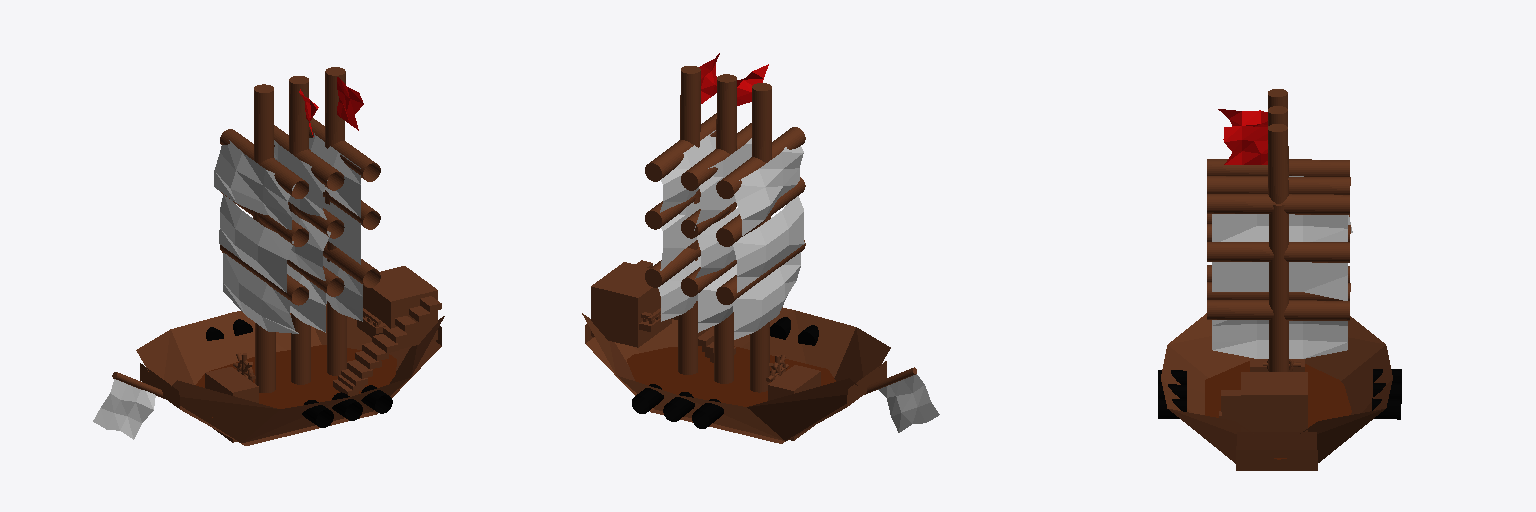
Rendered from ship.obj.
The picture shows the model from 3 angles: view 1: azimuth 30°, elevation 25°; view 2: azimuth 150°, elevation 25°; view 3: azimuth 270°, elevation 25°; orthographic projection.
Parts seen in each view (by area): view 1: Cylinder.001, Plane.002_Plane.003, Plane_Plane.001, Plane.001_Plane.002, Plane.003_Plane.004, Cube_Cube.001; view 2: Cylinder.001, Plane.002_Plane.003, Plane_Plane.001, Plane.001_Plane.002, Plane.003_Plane.004, Cube_Cube.001; view 3: Cylinder.001, Plane_Plane.001, Plane.002_Plane.003, Plane.001_Plane.002.
Part boxes in pixels (x1,y1,x2,y2): Cylinder.001: (206,67,441,427); Plane.002_Plane.003: (214,77,363,333); Plane_Plane.001: (136,304,444,445); Plane.001_Plane.002: (196,345,396,417); Plane.003_Plane.004: (93,379,155,439); Cube_Cube.001: (205,367,258,442); Cylinder.001: (591,66,818,428); Plane.002_Plane.003: (658,53,804,339); Plane_Plane.001: (582,307,890,443); Plane.001_Plane.002: (627,346,835,406); Plane.003_Plane.004: (878,374,939,432); Cube_Cube.001: (768,365,820,440); Cylinder.001: (1158,89,1401,431); Plane_Plane.001: (1161,313,1392,470); Plane.002_Plane.003: (1212,109,1352,358); Plane.001_Plane.002: (1205,361,1351,459).
Bounding box in the file's own units: 14.06 × 13.36 × 8.89.